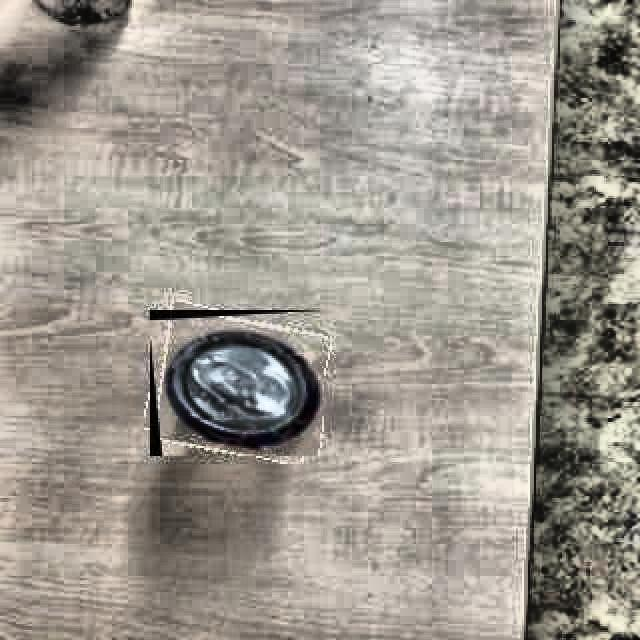Anorganik: (148, 310, 324, 458)
